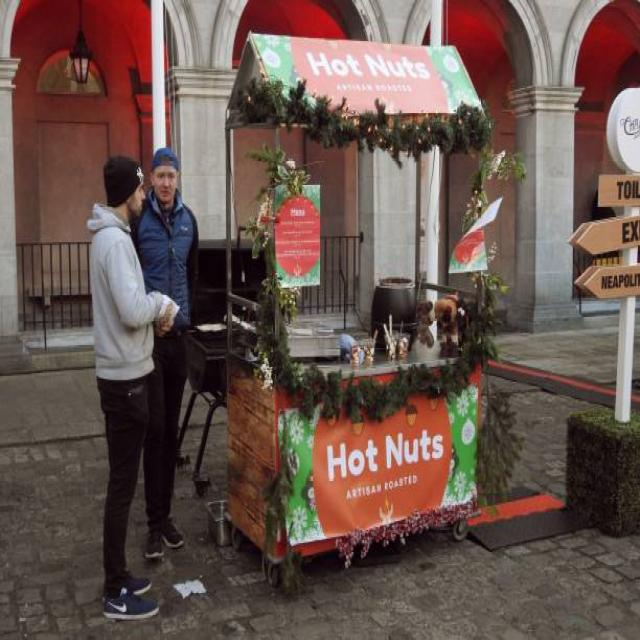Emperan: (202, 0, 525, 592)
